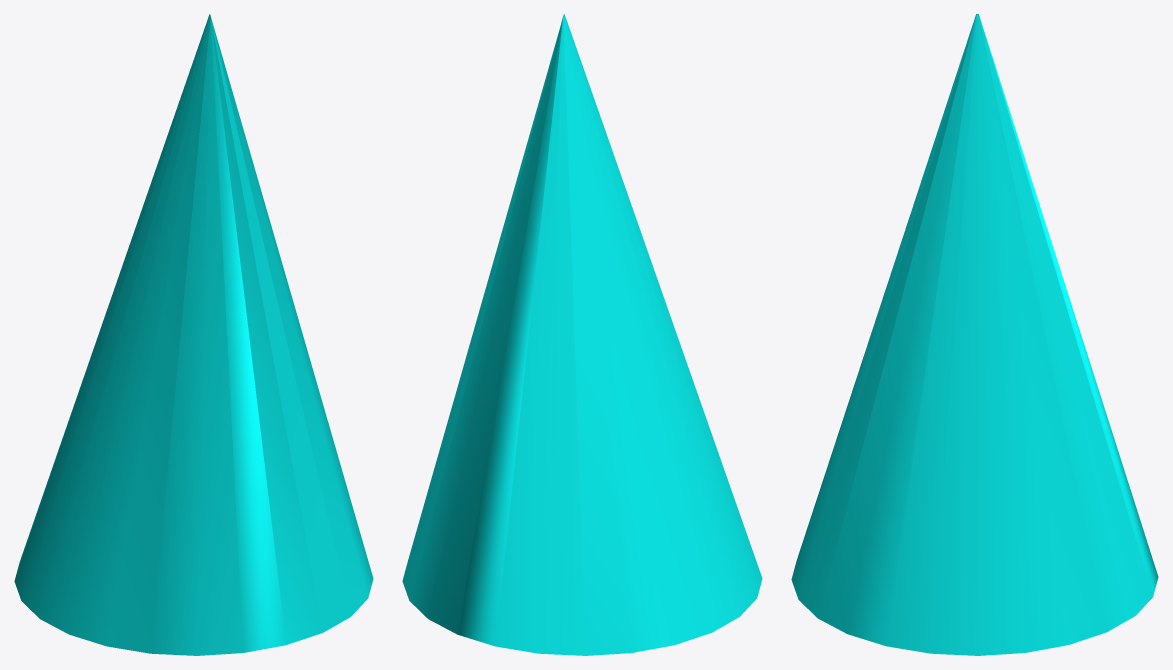
File: figura03.fbx
3 renders of one model, left to right at view 1: azimuth 30°, elevation 25°; view 2: azimuth 150°, elevation 25°; view 3: azimuth 270°, elevation 25°, orthographic. The views are drawn at different scales.
Parts seen in each view (by area): view 1: Union; view 2: Union; view 3: Union.
Boxes of the visible parts, box(x1,y1,x2,y2) form: Union: box(14, 14, 373, 655); Union: box(402, 14, 762, 655); Union: box(791, 14, 1158, 655).
Bounding box in the file's own units: 7999 × 13777 × 7999.
